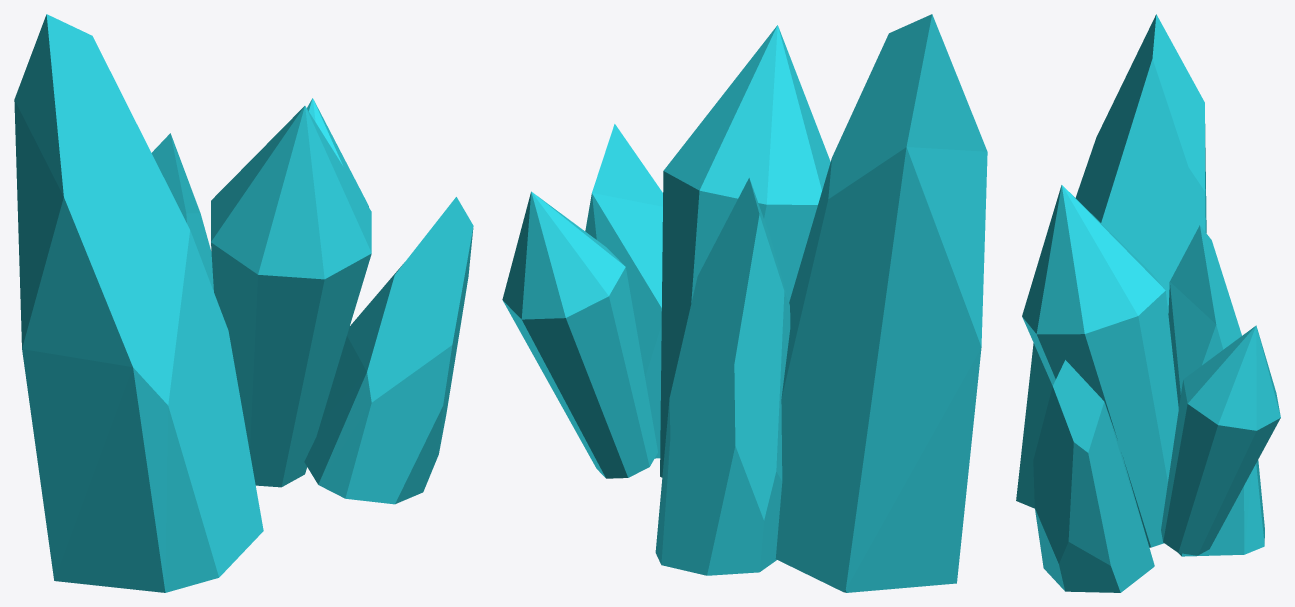
File: Crystal_Combined_Group.FBX
3 views of the same model, side by side, from view 1: azimuth 30°, elevation 25°; view 2: azimuth 150°, elevation 25°; view 3: azimuth 270°, elevation 25° (orthographic). The views are drawn at different scales.
Parts seen in each view (by area): view 1: Object035; view 2: Object035; view 3: Object035.
Boxes of the visible parts, left/top/right/bottom form: Object035: left=14, top=14, right=473, bottom=592; Object035: left=502, top=14, right=987, bottom=592; Object035: left=1016, top=14, right=1280, bottom=592.
Size of the model in its own units: 22.23 by 28.73 by 14.58.
